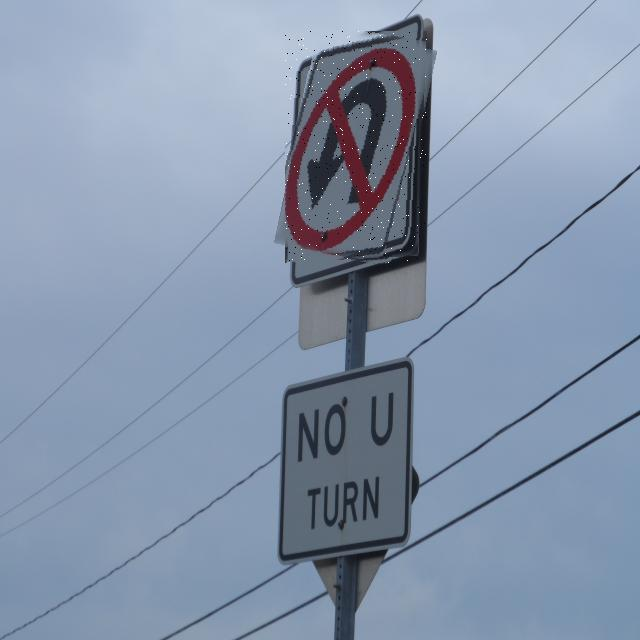no u turn: (285, 31, 427, 263)
